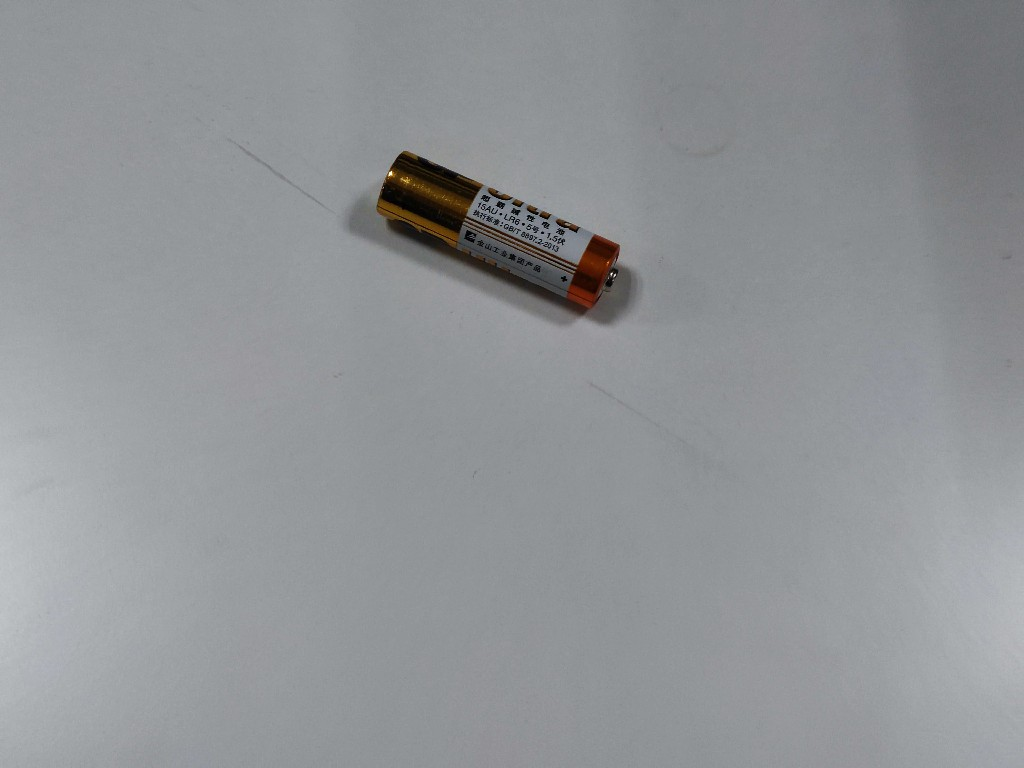charge: (370, 146, 635, 319)
